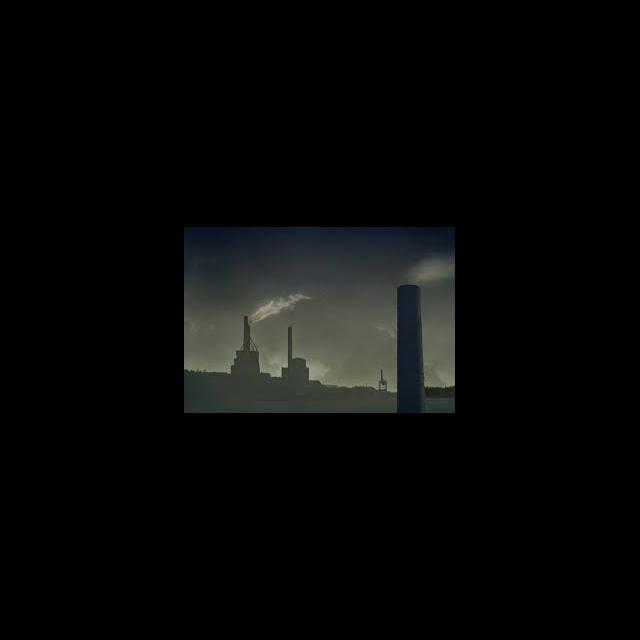Smoke: (252, 292, 311, 321), (408, 254, 452, 280)
